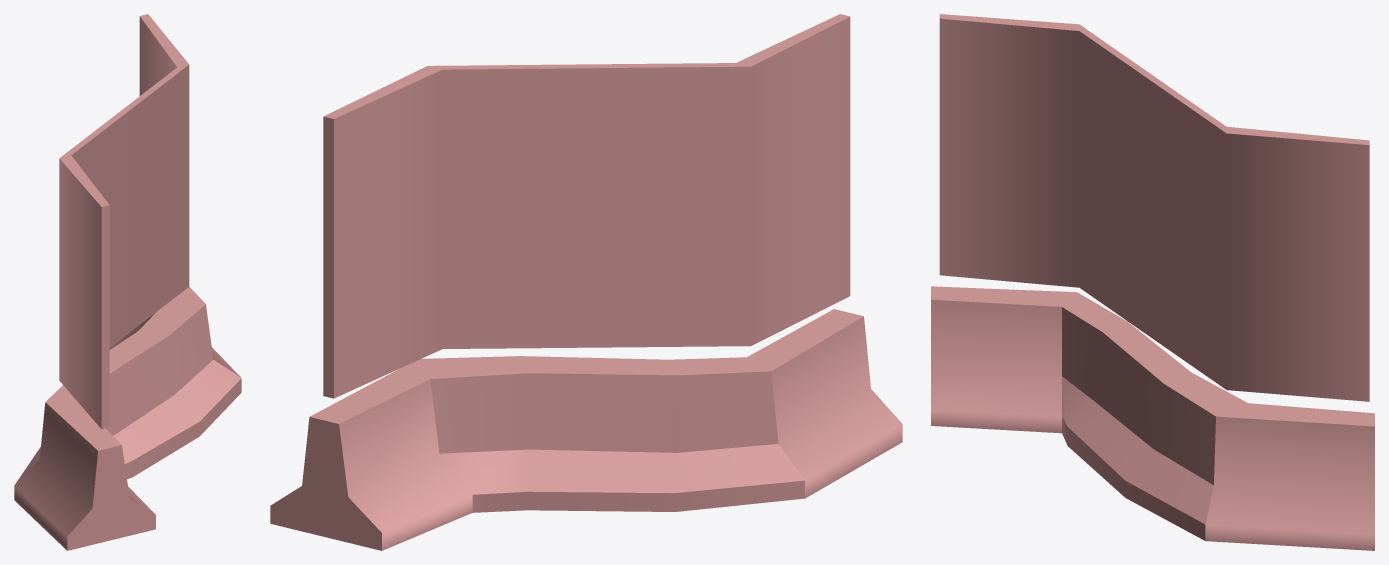
Rendered from Fence_A_E_COL.fbx.
3 renders of one model, left to right at view 1: azimuth 30°, elevation 25°; view 2: azimuth 150°, elevation 25°; view 3: azimuth 270°, elevation 25°, orthographic. The views are drawn at different scales.
Visible parts, largest first — view 1: Fence_A_E_COL; view 2: Fence_A_E_COL; view 3: Fence_A_E_COL.
Part boxes in pixels (x1=…): Fence_A_E_COL: x1=14, y1=14, x2=241, y2=550; Fence_A_E_COL: x1=270, y1=14, x2=902, y2=550; Fence_A_E_COL: x1=931, y1=14, x2=1374, y2=550.
Bounding box in the file's own units: 280 × 286 × 300.
